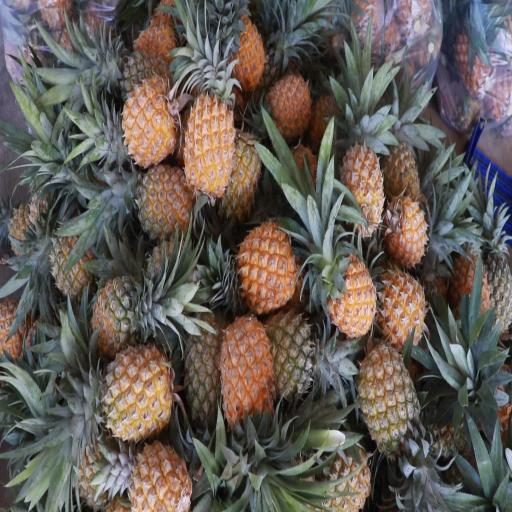------------------------------: (355, 336, 425, 470), (175, 300, 235, 428), (90, 261, 152, 352)
Pineapple - v8 v1: (90, 340, 176, 443), (216, 296, 274, 438), (180, 75, 237, 202), (123, 156, 196, 250), (120, 413, 190, 510), (232, 222, 299, 319), (336, 118, 386, 241), (326, 235, 382, 341), (121, 71, 175, 176), (312, 416, 371, 512), (377, 263, 428, 355), (262, 65, 315, 147), (383, 184, 432, 267), (223, 4, 267, 88)
